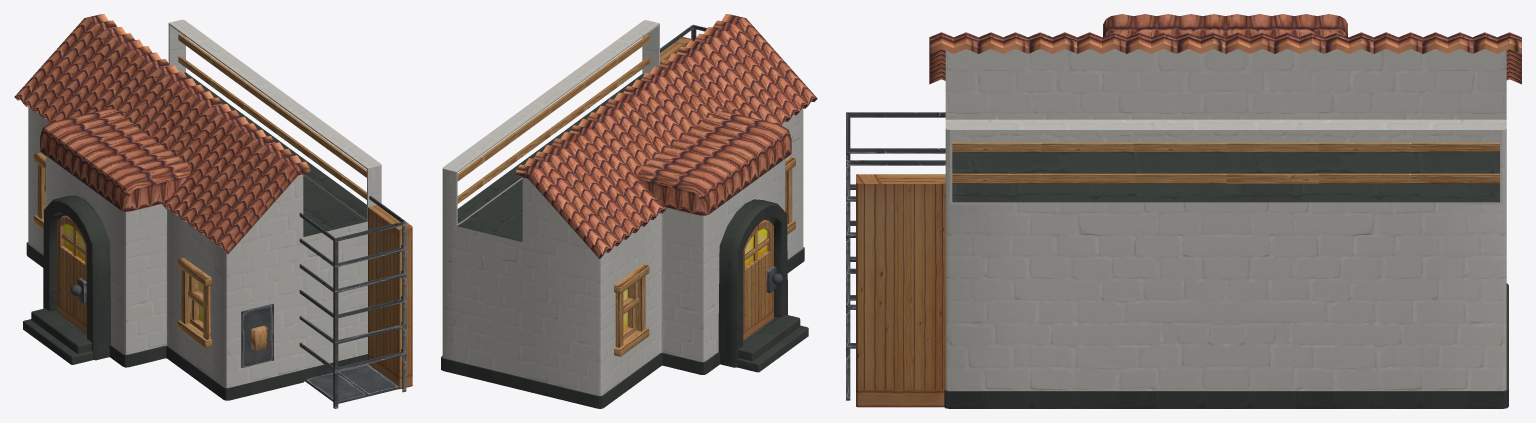
The model's file is House.FBX.
3 renders of one model, left to right at view 1: azimuth 30°, elevation 25°; view 2: azimuth 150°, elevation 25°; view 3: azimuth 270°, elevation 25°, orthographic. The views are drawn at different scales.
Parts seen in each view (by area): view 1: Box003, Object002, Object003, Object001, Box004, Box002, ChamferBox003, Object004, Box001, Box010, Object005, Object009; view 2: Box003, Object002, Object003, Object001, ChamferBox003, Object005, Object004; view 3: Box003, Box004, Object002, Object003, Box002.
Boxes of the visible parts, x1,y1,x2,y2 form: Box003: (26, 19, 381, 400); Object002: (14, 14, 310, 253); Object003: (40, 108, 190, 211); Object001: (43, 195, 110, 360); Box004: (368, 205, 412, 389); Box002: (299, 196, 406, 408); ChamferBox003: (23, 308, 92, 364); Object004: (177, 257, 211, 348); Box001: (305, 364, 399, 403); Box010: (241, 304, 273, 367); Object005: (33, 152, 45, 229); Object009: (251, 326, 267, 350); Box003: (441, 20, 804, 408); Object002: (515, 14, 817, 258); Object003: (637, 110, 791, 215); Object001: (718, 199, 787, 367); ChamferBox003: (737, 314, 808, 372); Object005: (614, 264, 649, 356); Object004: (785, 157, 795, 234); Box003: (944, 49, 1508, 408); Box004: (856, 174, 945, 407); Object002: (929, 32, 1521, 84); Object003: (1103, 14, 1347, 37); Box002: (846, 112, 945, 400).
Size of the model in its own units: 158 by 141 by 277.
